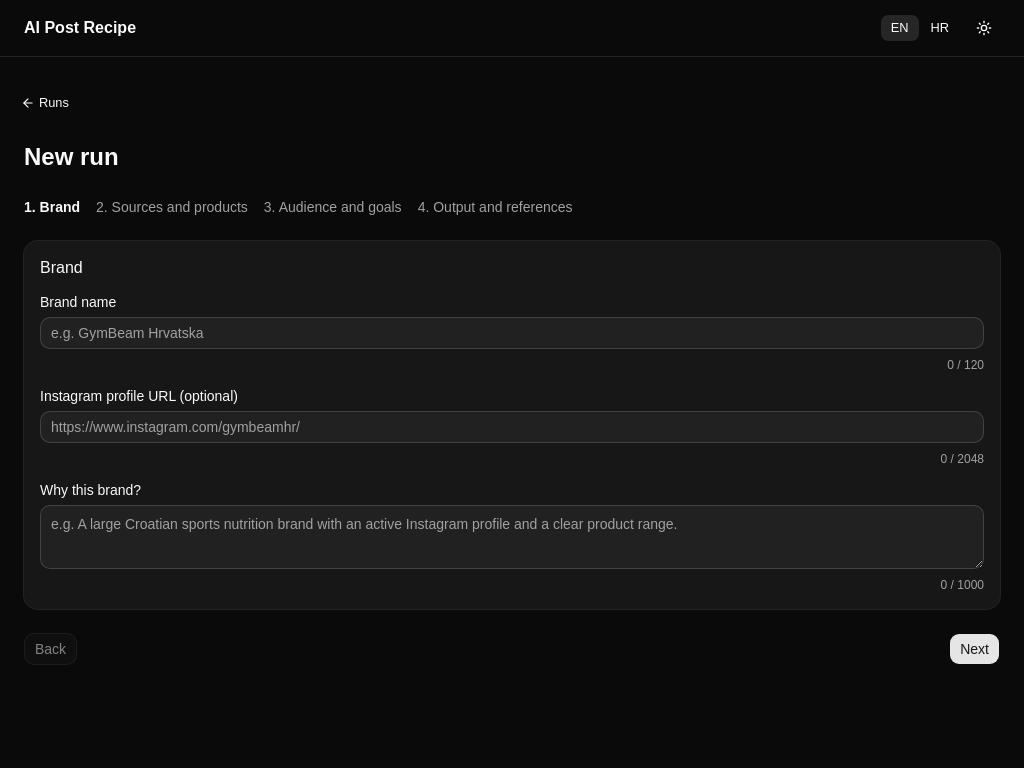
Scenario: Language in the URL › opens the same page in the other language
The image size is (1024, 768).
Click the button "HR": [940, 28] box [920,14,960,42]
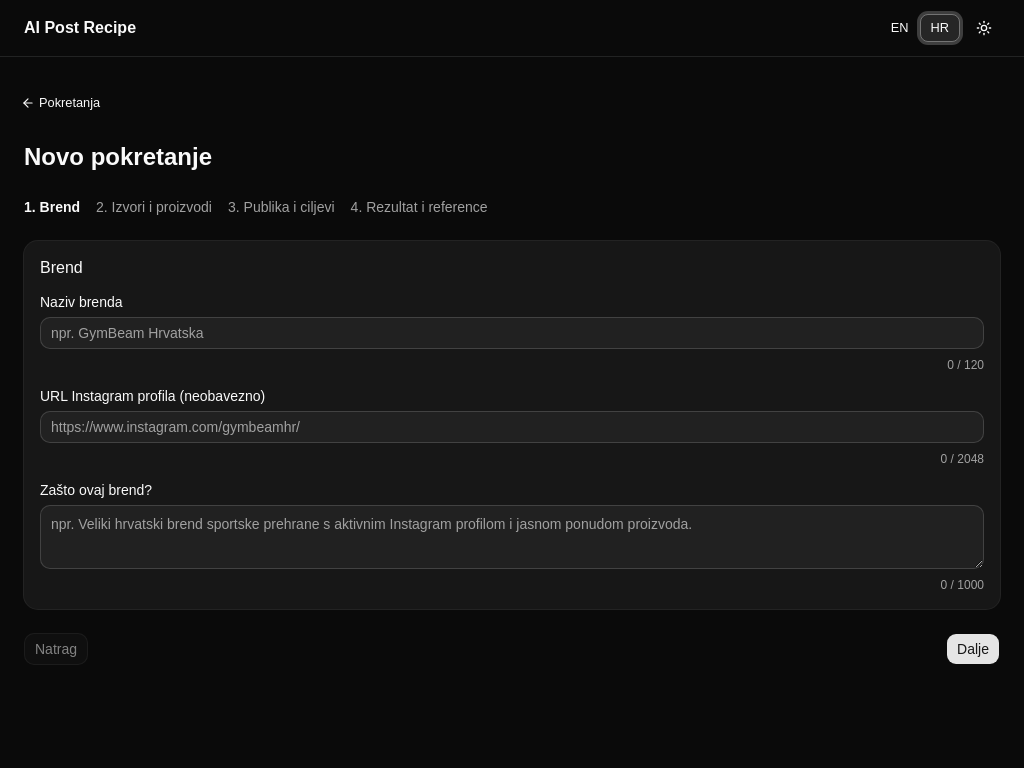
Expected: the heading "Novo pokretanje" is shown, [24,143,212,170]
